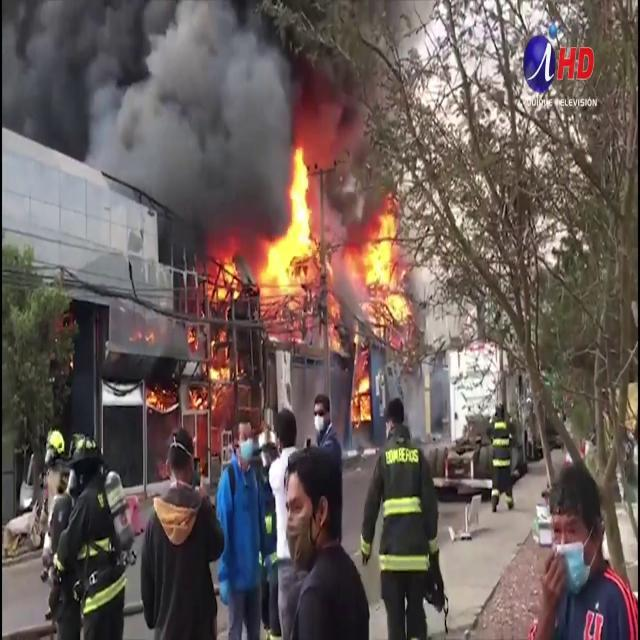Fire: (254, 140, 324, 306), (348, 206, 414, 328), (206, 247, 244, 304)
Smoke: (2, 0, 294, 235)
